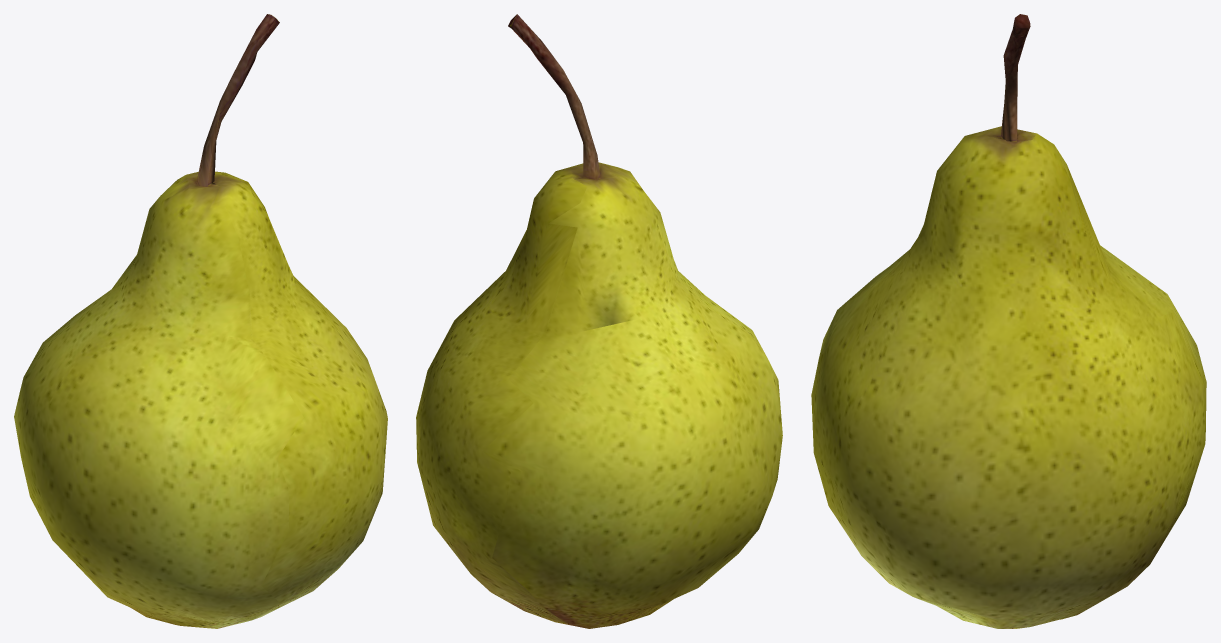
File: pear_lod.obj
The picture shows the model from 3 angles, left to right: view 1: azimuth 30°, elevation 25°; view 2: azimuth 150°, elevation 25°; view 3: azimuth 270°, elevation 25°; orthographic projection. The views are drawn at different scales.
Visible parts, largest first — view 1: pear.002_Cube.002; view 2: pear.002_Cube.002; view 3: pear.002_Cube.002.
Part boxes in pixels (x1,y1,x2,y2): pear.002_Cube.002: (14,14,387,628); pear.002_Cube.002: (416,14,782,628); pear.002_Cube.002: (811,14,1206,628).
Bounding box in the file's own units: 0.0764 × 0.1322 × 0.0751.
Materials: 3 (3 with a texture image).
